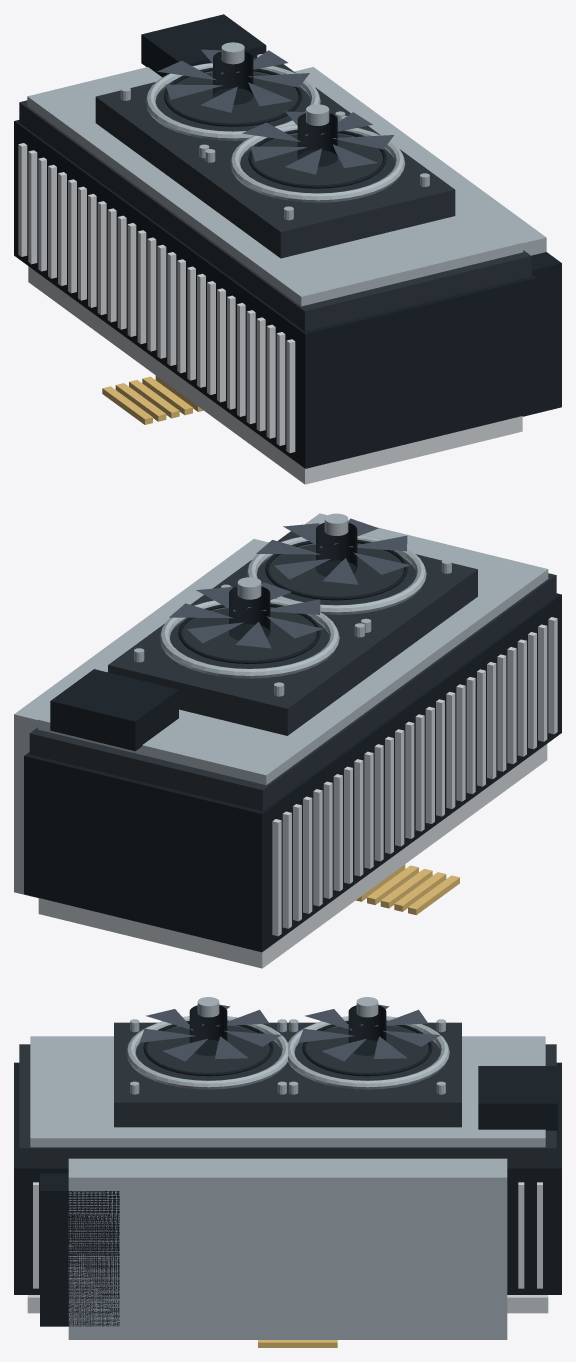
Rendered from rtx4070.glb.
3 views of the same model, one above another, from view 1: azimuth 30°, elevation 25°; view 2: azimuth 150°, elevation 25°; view 3: azimuth 270°, elevation 25° (orthographic). The views are drawn at different scales.
Visible parts, largest first — view 1: rtx4070; view 2: rtx4070; view 3: rtx4070.
Boxes of the visible parts, box(x1,y1,x2,y2) form: rtx4070: box(14, 14, 561, 484); rtx4070: box(14, 513, 561, 968); rtx4070: box(14, 997, 561, 1347).
Bounding box in the file's own units: 0.656 × 0.6235 × 1.1.
